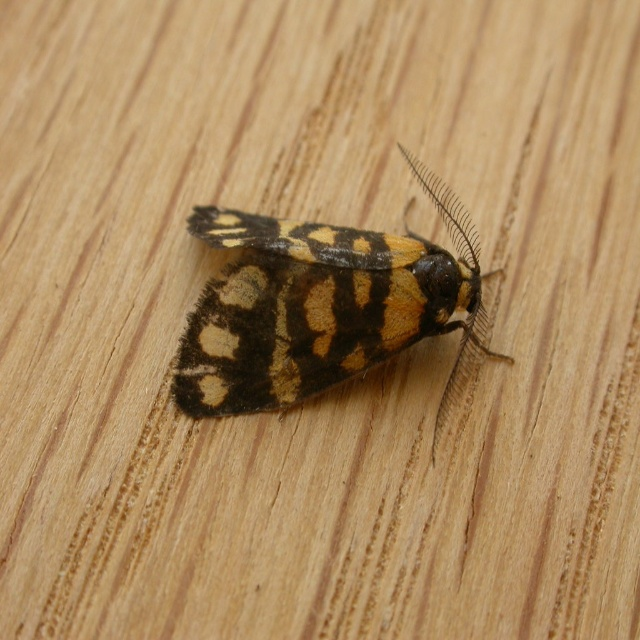Moths and butterflies: (168, 138, 514, 472)
